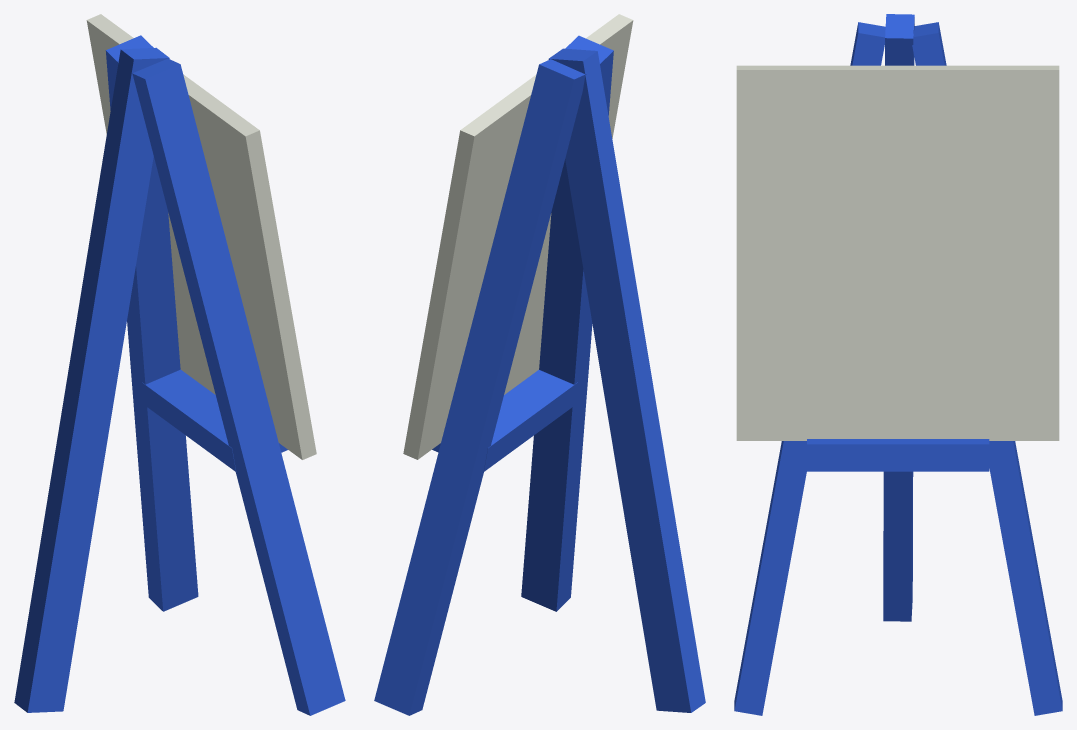
The model's file is painting-collider.glb.
The picture shows the model from 3 angles, left to right: view 1: azimuth 30°, elevation 25°; view 2: azimuth 150°, elevation 25°; view 3: azimuth 270°, elevation 25°; orthographic projection.
Parts seen in each view (by area): view 1: Cube.052, Cube.051, Cube.044, Cube.050, Cube.049; view 2: Cube.050, Cube.051, Cube.044, Cube.052, Cube.049; view 3: Cube.044, Cube.052, Cube.050, Cube.049, Cube.051.
Boxes of the visible parts, x1,y1,x2,y2 form: Cube.052: [132, 58, 345, 715]; Cube.051: [14, 47, 169, 712]; Cube.044: [86, 14, 316, 459]; Cube.050: [105, 35, 198, 611]; Cube.049: [142, 369, 287, 471]; Cube.050: [374, 59, 586, 715]; Cube.051: [548, 48, 705, 712]; Cube.044: [403, 14, 633, 459]; Cube.052: [521, 35, 613, 611]; Cube.049: [432, 370, 577, 471]; Cube.044: [736, 65, 1059, 440]; Cube.052: [734, 22, 885, 715]; Cube.050: [912, 22, 1062, 715]; Cube.049: [807, 439, 989, 471]; Cube.051: [883, 14, 914, 621].
Size of the model in its own units: 1.53 by 3.78 by 1.75.
